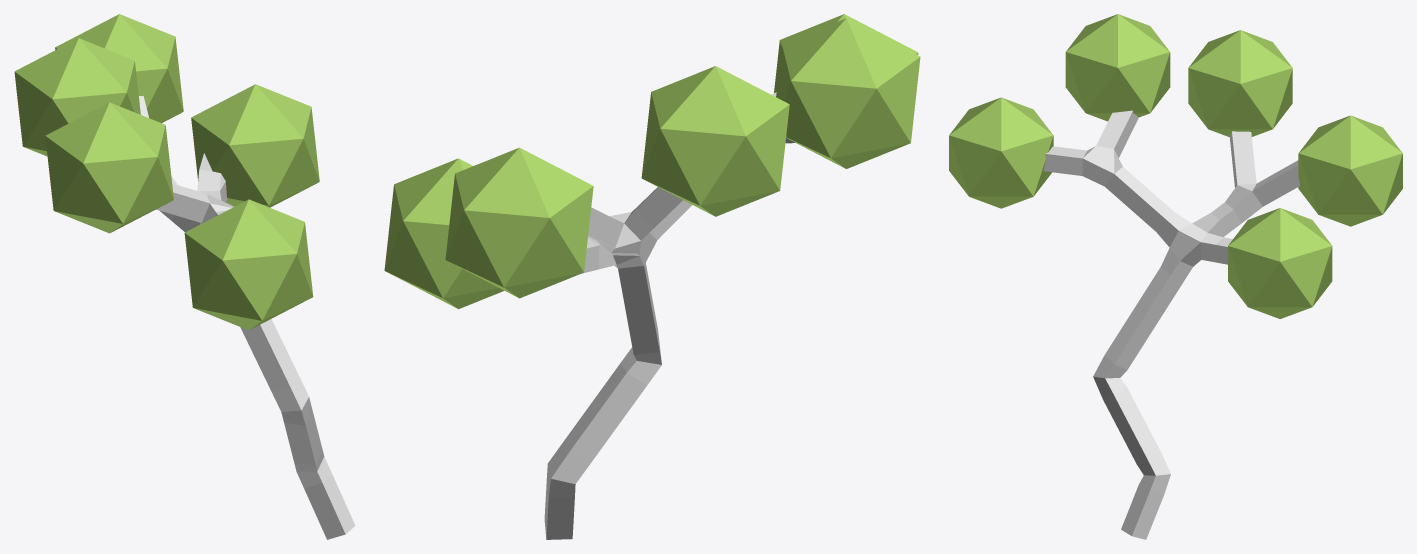
The model's file is arbol.fbx.
The picture shows the model from 3 angles, left to right: view 1: azimuth 30°, elevation 25°; view 2: azimuth 150°, elevation 25°; view 3: azimuth 270°, elevation 25°; orthographic projection. The views are drawn at different scales.
Visible parts, largest first — view 1: Icosphere; view 2: Icosphere; view 3: Icosphere.
Part boxes in pixels (x1=…): Icosphere: x1=14, y1=14, x2=355, y2=539; Icosphere: x1=384, y1=14, x2=920, y2=539; Icosphere: x1=949, y1=14, x2=1402, y2=539.
Bounding box in the file's own units: 480 × 651 × 629.
Materials: 2 (1 with a texture image).
